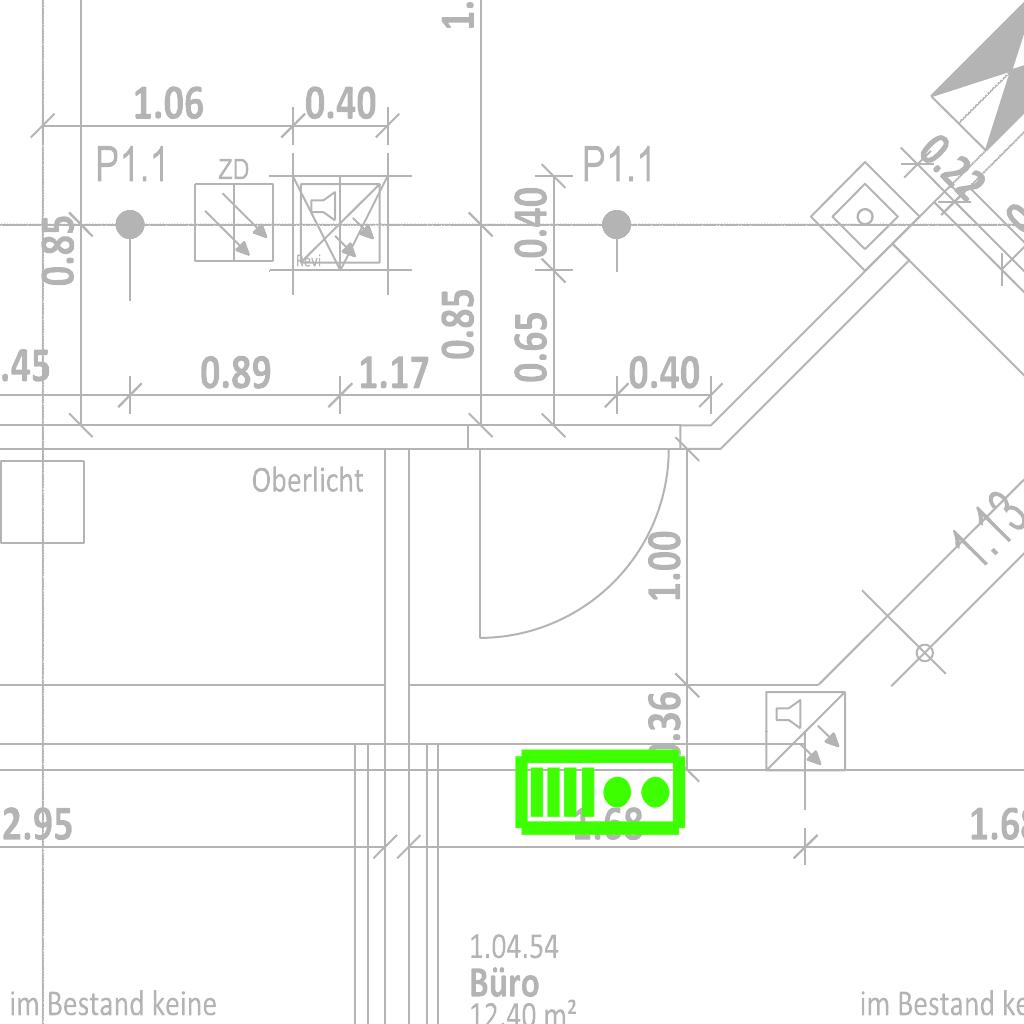Gegensprechanlage_mit_Video: (513, 743, 689, 838)
